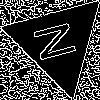N: (32, 17, 86, 64)
